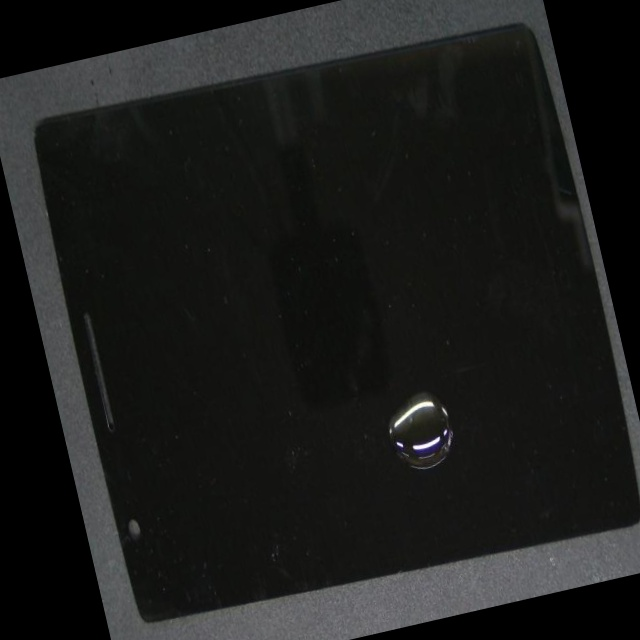oil: (203, 209, 640, 640)
